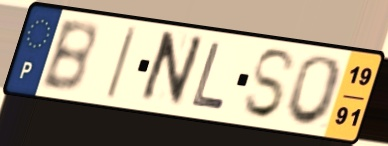B: (37, 20, 99, 96)
I: (102, 25, 140, 103)
L: (188, 39, 227, 114)
N: (134, 29, 208, 110)
O: (282, 53, 346, 128)
S: (241, 47, 298, 122)
